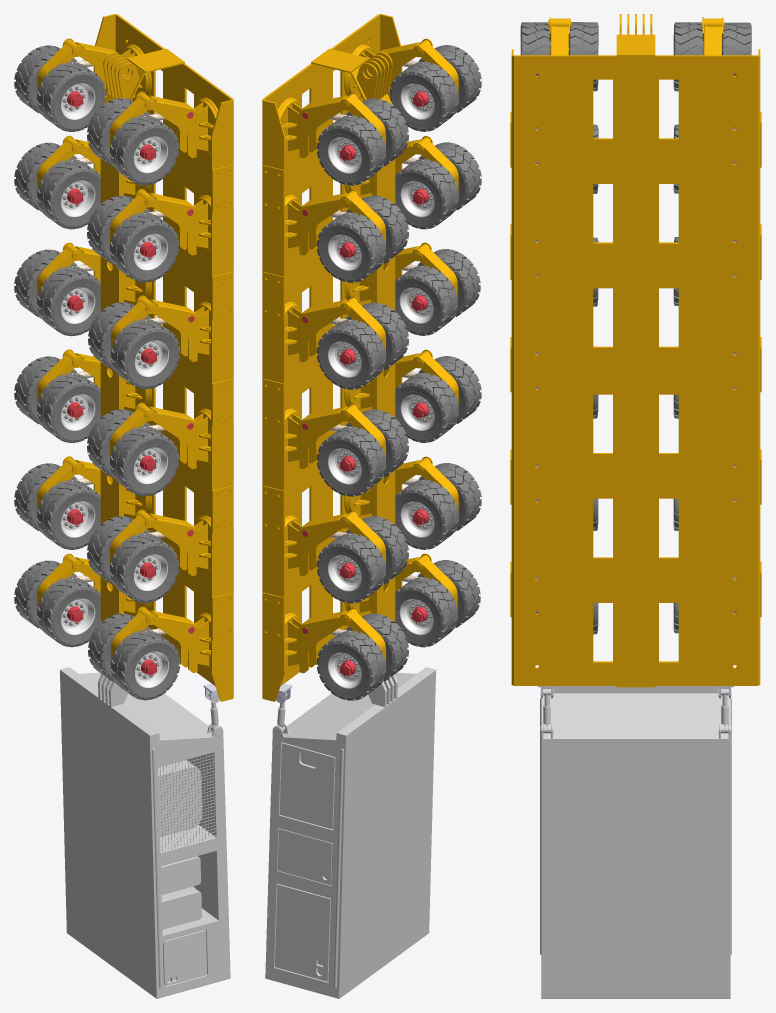
File: SPMT-v6-v1-v1.glb
The picture shows the model from 3 angles, left to right: view 1: azimuth 30°, elevation 25°; view 2: azimuth 150°, elevation 25°; view 3: azimuth 270°, elevation 25°; orthographic projection. The views are drawn at different scales.
Visible parts, largest first — view 1: SPMT_06_PPU(SPMT_06_PPU.1), STMP_01_Upper Plate(STMP_01_Upper Plate.1), Symmetry of STMP_07_Wheel(Symmetry of STMP_07_Wheel.1.5), Symmetry of STMP_07_Wheel(Symmetry of STMP_07_Wheel.1.3), Symmetry of STMP_07_Wheel(Symmetry of STMP_07_Wheel.1.4), Symmetry of STMP_07_Wheel(Symmetry of STMP_07_Wheel.1.6), Symmetry of STMP_07_Wheel(Symmetry of STMP_07_Wheel.1.1), Symmetry of STMP_07_Wheel(Symmetry of STMP_07_Wheel.1.2), Symmetry of STMP_07_Wheel(Symmetry of STMP_07_Wheel.1.12), Symmetry of STMP_07_Wheel(Symmetry of STMP_07_Wheel.1.7), Symmetry of STMP_07_Wheel(Symmetry of STMP_07_Wheel.1.10), Symmetry of STMP_07_Wheel(Symmetry of STMP_07_Wheel.1.11) (+38 smaller); view 2: SPMT_06_PPU(SPMT_06_PPU.1), STMP_01_Upper Plate(STMP_01_Upper Plate.1), STMP_07_Wheel(STMP_07_Wheel.11), STMP_07_Wheel(STMP_07_Wheel.8), STMP_07_Wheel(STMP_07_Wheel.9), STMP_07_Wheel(STMP_07_Wheel.12), STMP_07_Wheel(STMP_07_Wheel.7), STMP_07_Wheel(STMP_07_Wheel.10), STMP_07_Wheel(STMP_07_Wheel.6), STMP_07_Wheel(STMP_07_Wheel.3), STMP_07_Wheel(STMP_07_Wheel.5), STMP_07_Wheel(STMP_07_Wheel.2) (+38 smaller); view 3: STMP_01_Upper Plate(STMP_01_Upper Plate.1), SPMT_06_PPU(SPMT_06_PPU.1), Symmetry of STMP_07_Wheel(Symmetry of STMP_07_Wheel.1.12), STMP_07_Wheel(STMP_07_Wheel.6), Symmetry of STMP_07_Wheel(Symmetry of STMP_07_Wheel.1.6), STMP_07_Wheel(STMP_07_Wheel.7), STMP_02_Rotator(STMP_02_Rotator.12), STMP_02_Rotator(STMP_02_Rotator.6).
Part boxes in pixels (<box>): SPMT_06_PPU(SPMT_06_PPU.1): <box>60,667,230,998</box>; STMP_01_Upper Plate(STMP_01_Upper Plate.1): <box>93,14,233,703</box>; Symmetry of STMP_07_Wheel(Symmetry of STMP_07_Wheel.1.5): <box>110,212,179,282</box>; Symmetry of STMP_07_Wheel(Symmetry of STMP_07_Wheel.1.3): <box>110,426,179,496</box>; Symmetry of STMP_07_Wheel(Symmetry of STMP_07_Wheel.1.4): <box>111,319,180,389</box>; Symmetry of STMP_07_Wheel(Symmetry of STMP_07_Wheel.1.6): <box>110,115,179,185</box>; Symmetry of STMP_07_Wheel(Symmetry of STMP_07_Wheel.1.1): <box>111,630,180,700</box>; Symmetry of STMP_07_Wheel(Symmetry of STMP_07_Wheel.1.2): <box>110,533,179,603</box>; Symmetry of STMP_07_Wheel(Symmetry of STMP_07_Wheel.1.12): <box>37,61,106,131</box>; Symmetry of STMP_07_Wheel(Symmetry of STMP_07_Wheel.1.7): <box>37,577,101,647</box>; Symmetry of STMP_07_Wheel(Symmetry of STMP_07_Wheel.1.10): <box>37,266,100,336</box>; Symmetry of STMP_07_Wheel(Symmetry of STMP_07_Wheel.1.11): <box>37,159,100,229</box>; SPMT_06_PPU(SPMT_06_PPU.1): <box>265,667,436,998</box>; STMP_01_Upper Plate(STMP_01_Upper Plate.1): <box>262,14,402,703</box>; STMP_07_Wheel(STMP_07_Wheel.11): <box>316,533,385,603</box>; STMP_07_Wheel(STMP_07_Wheel.8): <box>316,212,385,282</box>; STMP_07_Wheel(STMP_07_Wheel.9): <box>316,319,385,389</box>; STMP_07_Wheel(STMP_07_Wheel.12): <box>316,630,385,700</box>; STMP_07_Wheel(STMP_07_Wheel.7): <box>316,115,385,185</box>; STMP_07_Wheel(STMP_07_Wheel.10): <box>316,426,385,496</box>; STMP_07_Wheel(STMP_07_Wheel.6): <box>389,61,458,131</box>; STMP_07_Wheel(STMP_07_Wheel.3): <box>395,372,458,442</box>; STMP_07_Wheel(STMP_07_Wheel.5): <box>395,159,458,229</box>; STMP_07_Wheel(STMP_07_Wheel.2): <box>395,479,458,549</box>; STMP_01_Upper Plate(STMP_01_Upper Plate.1): <box>510,14,761,698</box>; SPMT_06_PPU(SPMT_06_PPU.1): <box>540,686,731,998</box>; Symmetry of STMP_07_Wheel(Symmetry of STMP_07_Wheel.1.12): <box>673,22,703,91</box>; STMP_07_Wheel(STMP_07_Wheel.6): <box>568,22,598,91</box>; Symmetry of STMP_07_Wheel(Symmetry of STMP_07_Wheel.1.6): <box>520,22,550,75</box>; STMP_07_Wheel(STMP_07_Wheel.7): <box>722,22,751,75</box>; STMP_02_Rotator(STMP_02_Rotator.12): <box>702,17,723,55</box>; STMP_02_Rotator(STMP_02_Rotator.6): <box>549,17,570,55</box>.
Size of the model in its own units: 0.0287 by 0.2118 by 0.0505.
